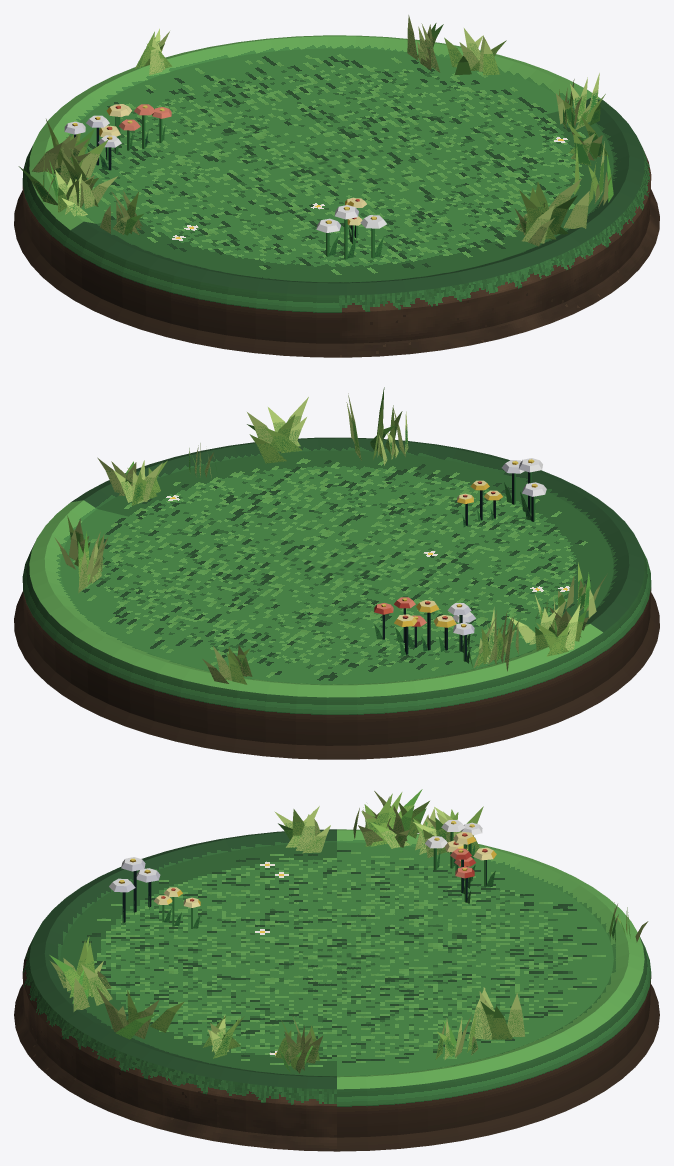
The model's file is platform_forest.glb.
3 renders of one model, top to bottom at view 1: azimuth 30°, elevation 25°; view 2: azimuth 150°, elevation 25°; view 3: azimuth 270°, elevation 25°, orthographic.
Visible parts, largest first — view 1: platform_forest, plat_forest; view 2: platform_forest, plat_forest; view 3: platform_forest, plat_forest.
Boxes of the visible parts, x1,y1,x2,y2 form: platform_forest: [14, 35, 659, 357]; plat_forest: [18, 15, 613, 259]; platform_forest: [14, 437, 659, 759]; plat_forest: [54, 387, 607, 684]; platform_forest: [14, 829, 659, 1151]; plat_forest: [49, 789, 648, 1073].
Bounding box in the file's own units: 2.1 × 0.3997 × 2.1.
Materials: 3 (2 with a texture image).
